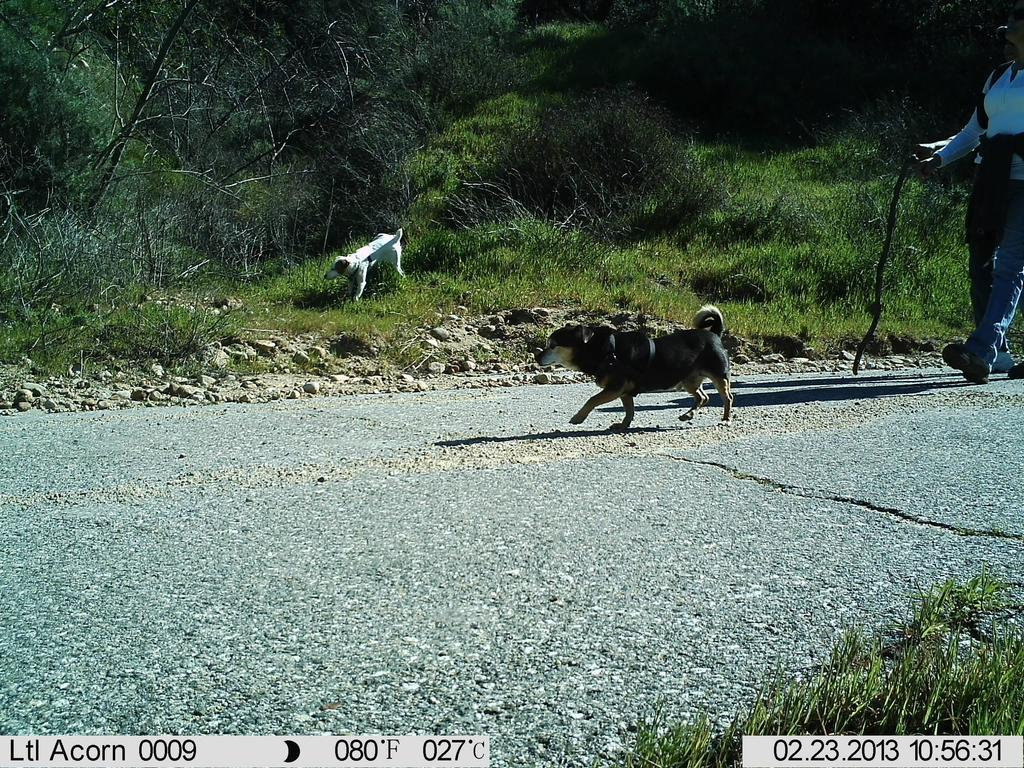dog: (528, 297, 766, 447), (322, 219, 421, 317)
